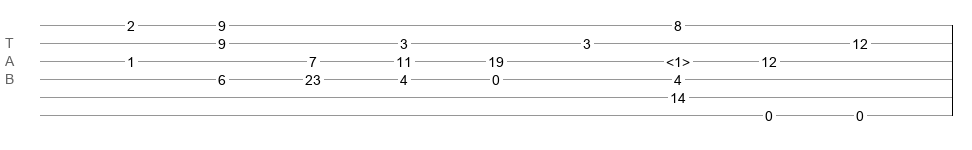0: (492, 72, 500, 82), (765, 108, 773, 118), (856, 108, 864, 118)
1: (127, 54, 135, 64)
11: (396, 54, 412, 64)
12: (761, 54, 777, 64), (852, 36, 868, 46)
14: (670, 90, 686, 100)
19: (488, 54, 504, 64)
2: (127, 18, 135, 28)
23: (305, 72, 321, 82)
3: (400, 36, 408, 46), (583, 36, 591, 46)
4: (400, 72, 408, 82), (674, 72, 682, 82)
6: (218, 72, 226, 82)
7: (309, 54, 317, 64)
8: (674, 18, 682, 28)
9: (218, 36, 226, 46), (218, 18, 226, 28)
harmonic: (666, 54, 690, 64)
